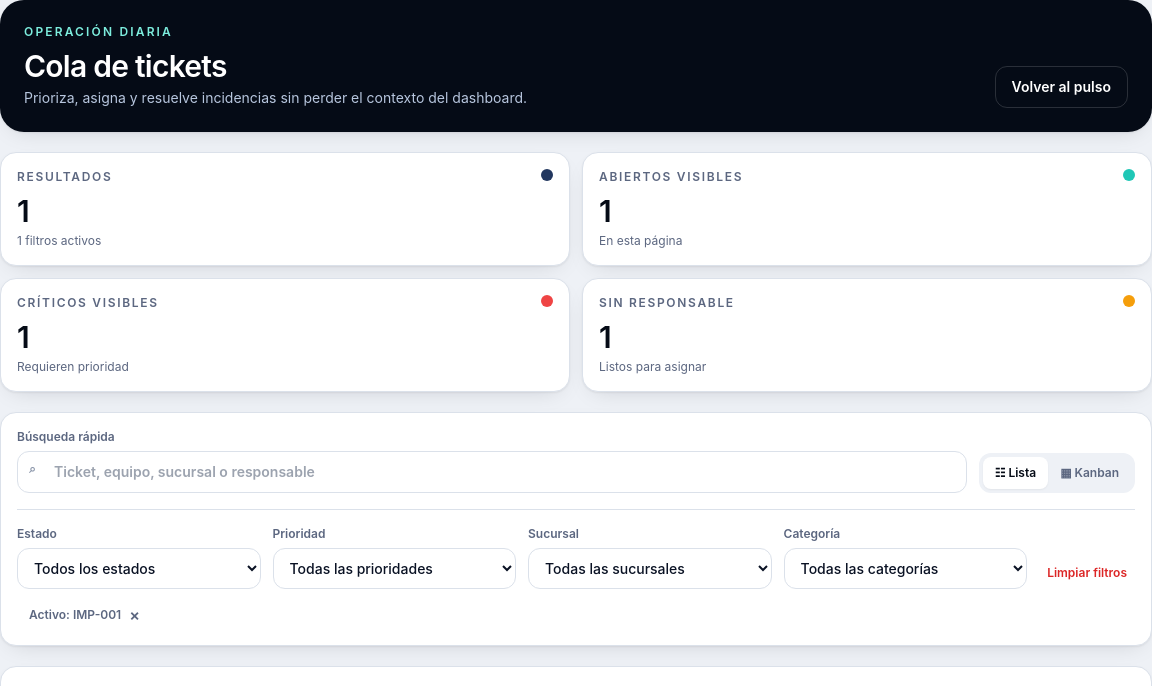
TicketsPage › mantiene filtros conectados y muestra el SLA de la cola
expect the heading "Cola de tickets" is shown: met, box [24, 48, 227, 84]
expect the text "Activo: IMP-001" is shown: met, box [29, 607, 140, 623]
Click the button "▦ Kanban" at [1090, 473], box [1048, 457, 1131, 489]
(page scrolled)
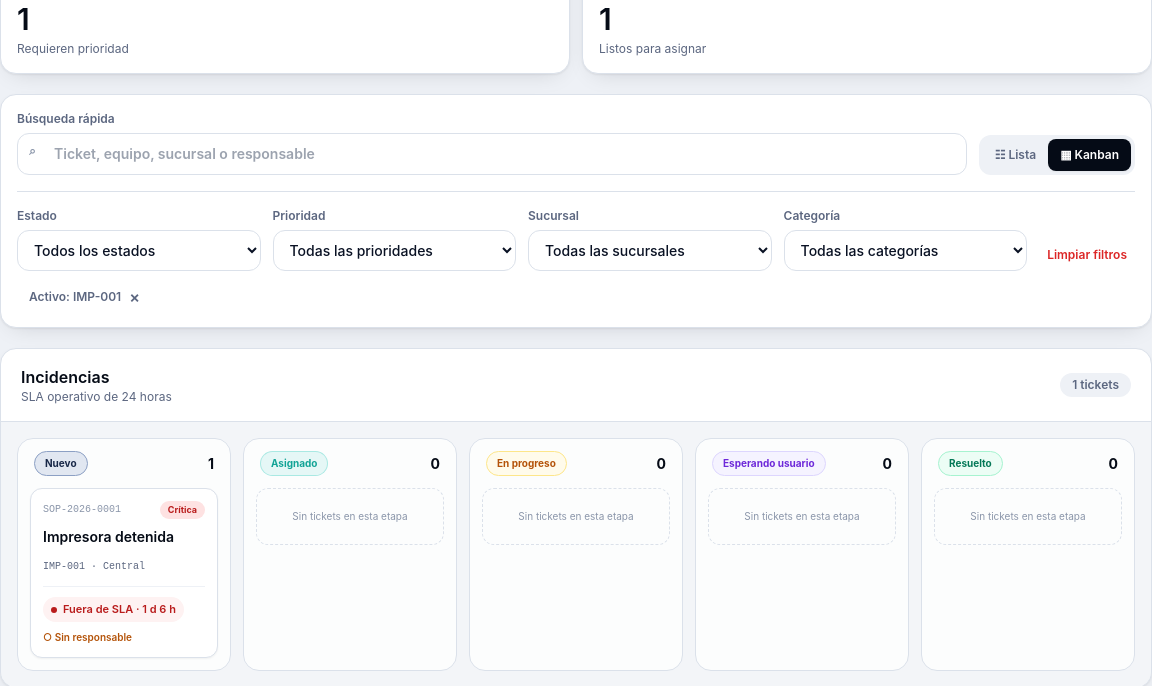
expect the heading "Impresora detenida" is shown: met, box [43, 528, 174, 544]
expect the text "Sin tickets en esta etapa" is shown 4 times: met, box [256, 488, 444, 545]; [482, 488, 670, 545]; [708, 488, 896, 545]; [934, 488, 1122, 545]
